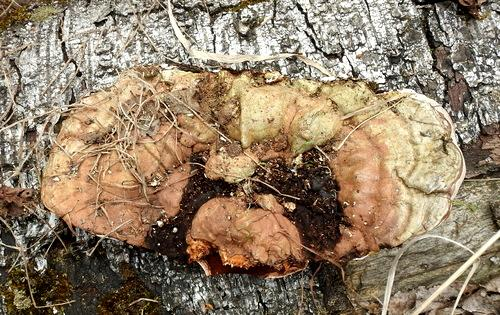Ganoderma - Fruit Body: (39, 67, 469, 270)
